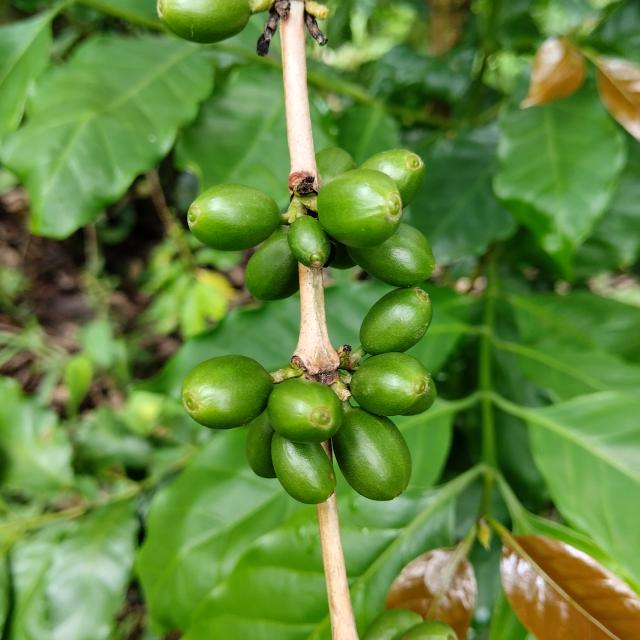green: (332, 408, 412, 501), (181, 355, 273, 430), (317, 168, 402, 247), (187, 183, 281, 251), (347, 222, 436, 287), (350, 353, 437, 416), (360, 287, 433, 356), (267, 377, 342, 444), (271, 433, 336, 505), (245, 226, 299, 301), (156, 0, 251, 42), (360, 149, 426, 207), (288, 215, 331, 268), (245, 410, 276, 479), (315, 147, 356, 183)
